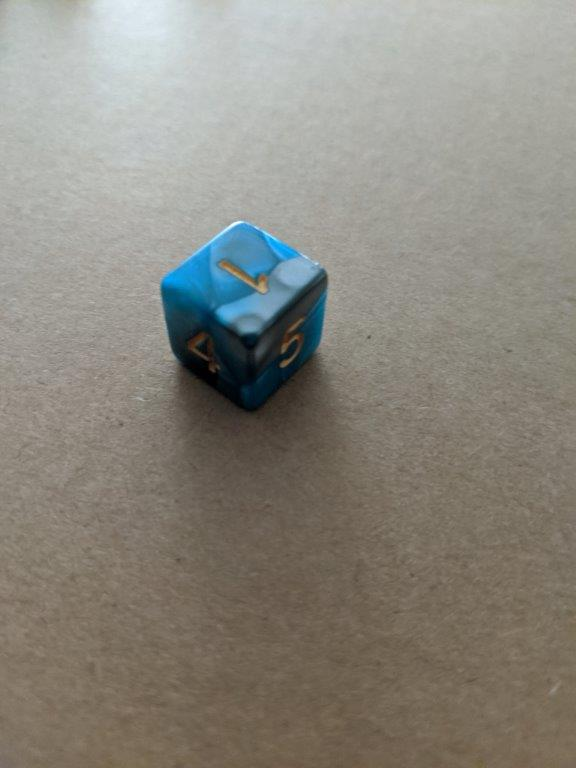d6-1: (161, 220, 326, 414)
